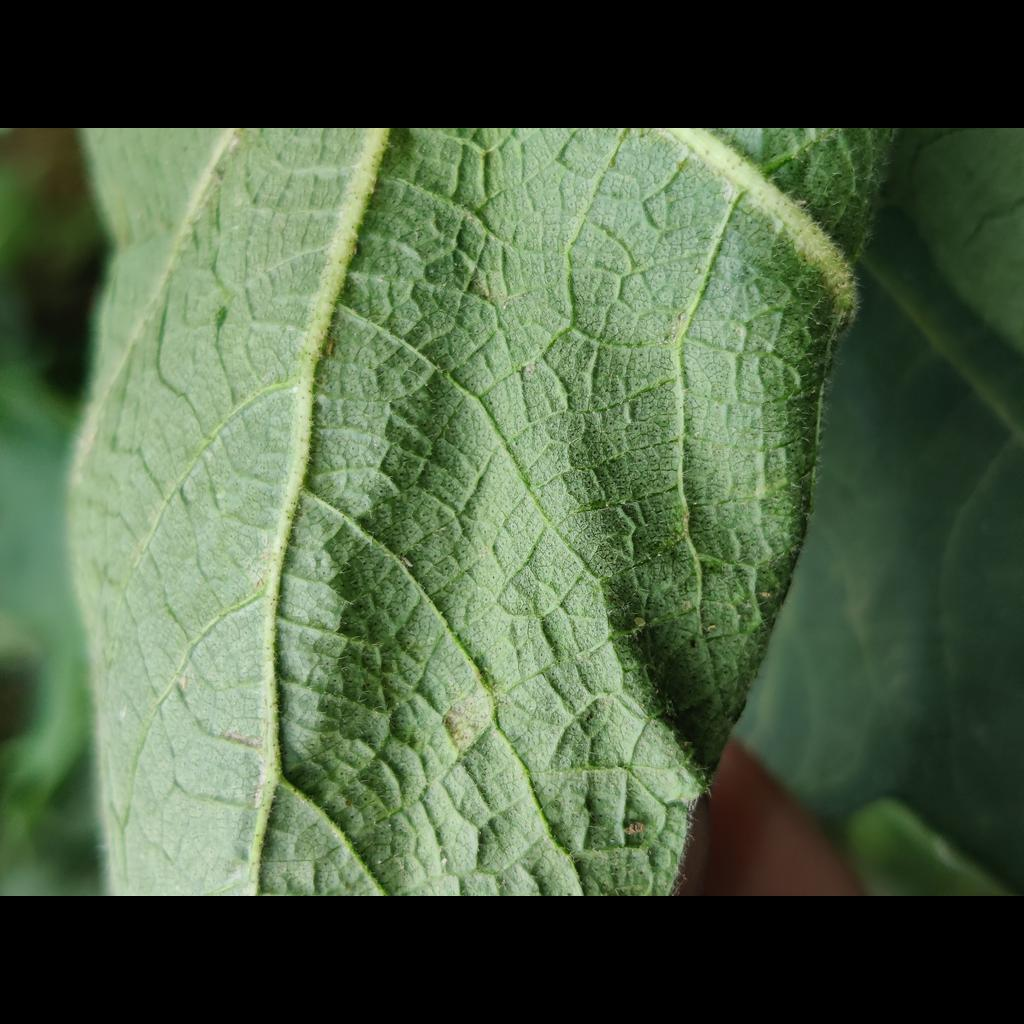nymph: (316, 393, 329, 406), (442, 857, 447, 864)
